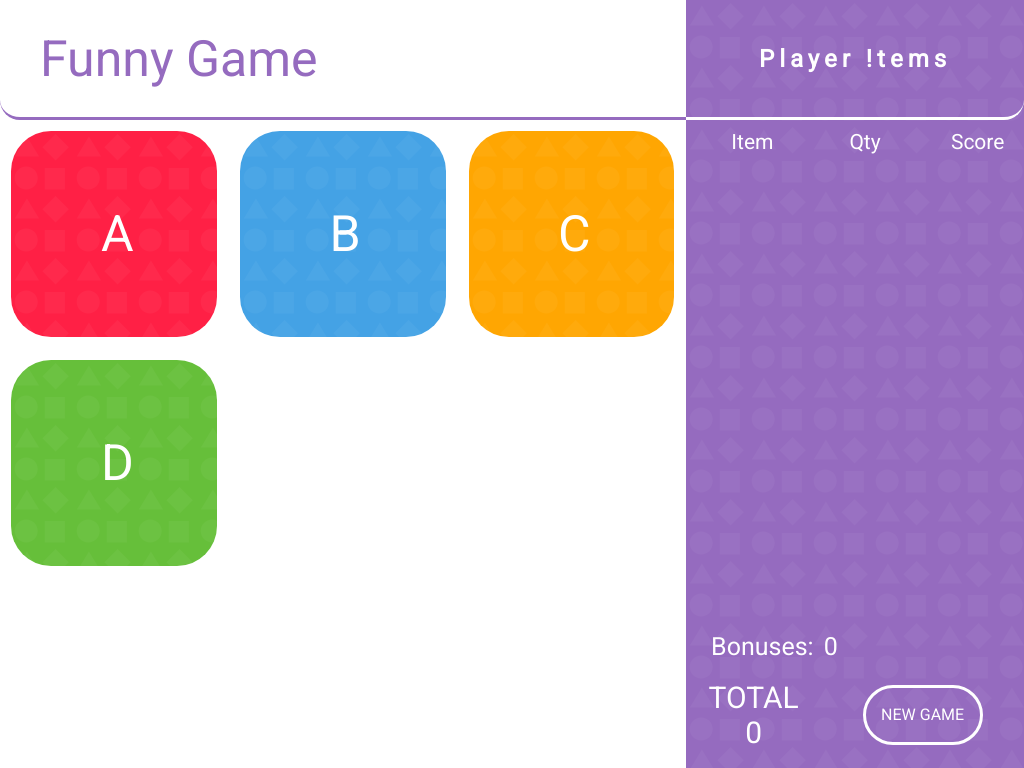
Test case: test menu › Bonus - B
What coordinates should you click on to do the following:
click the element showing "B"
I would click on:
 (343, 234)
Its box is [240,131,446,337].
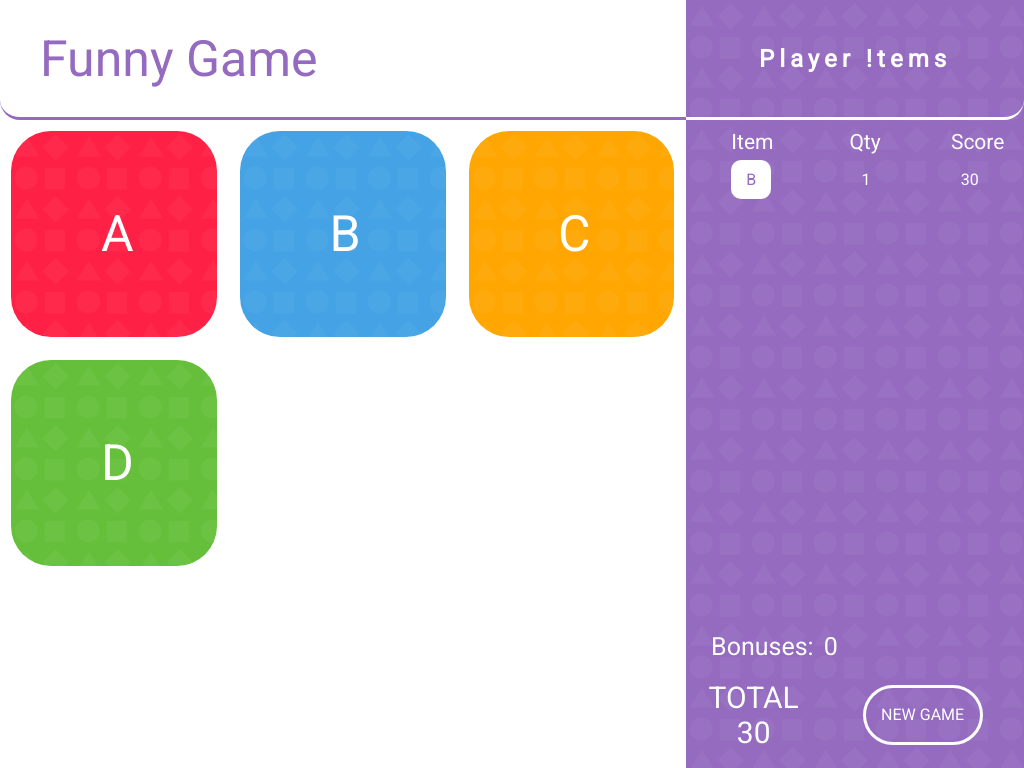
What coordinates should you click on to do the following:
click the element showing "B"
I would click on:
 (343, 234)
Its box is [240,131,446,337].
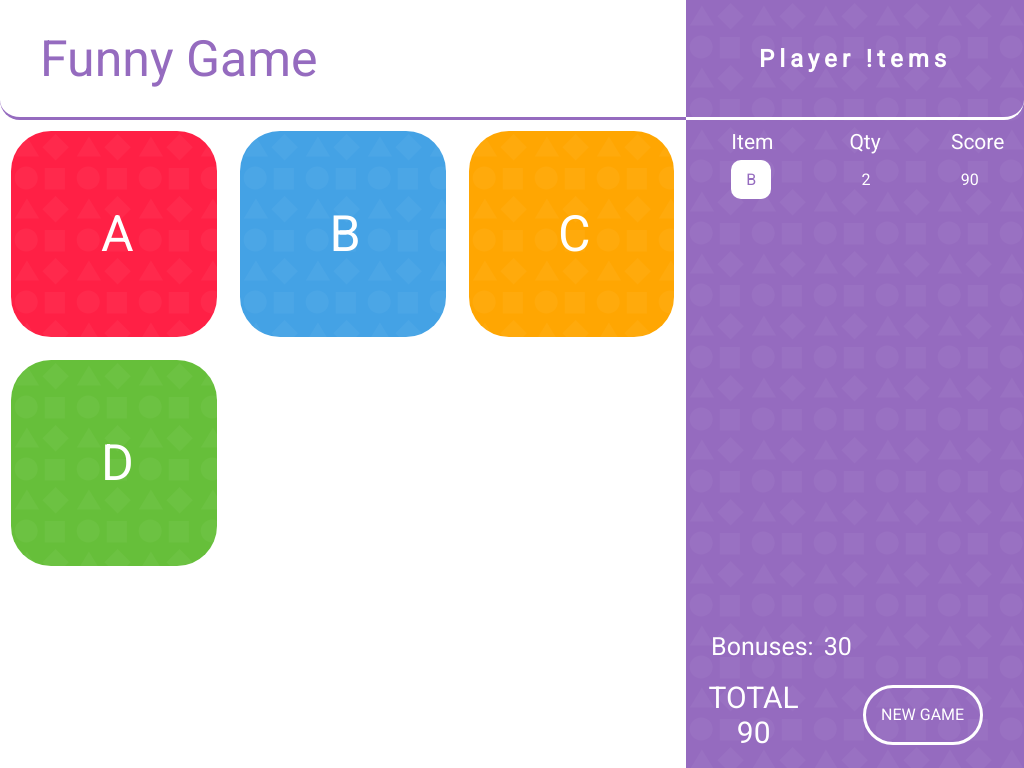
Result: the text "90" below "TOTAL" is shown at [737,715,771,750]
Result: the text "30" is shown at [824,632,852,661]
Result: the text "2" is shown at [862,170,870,188]
